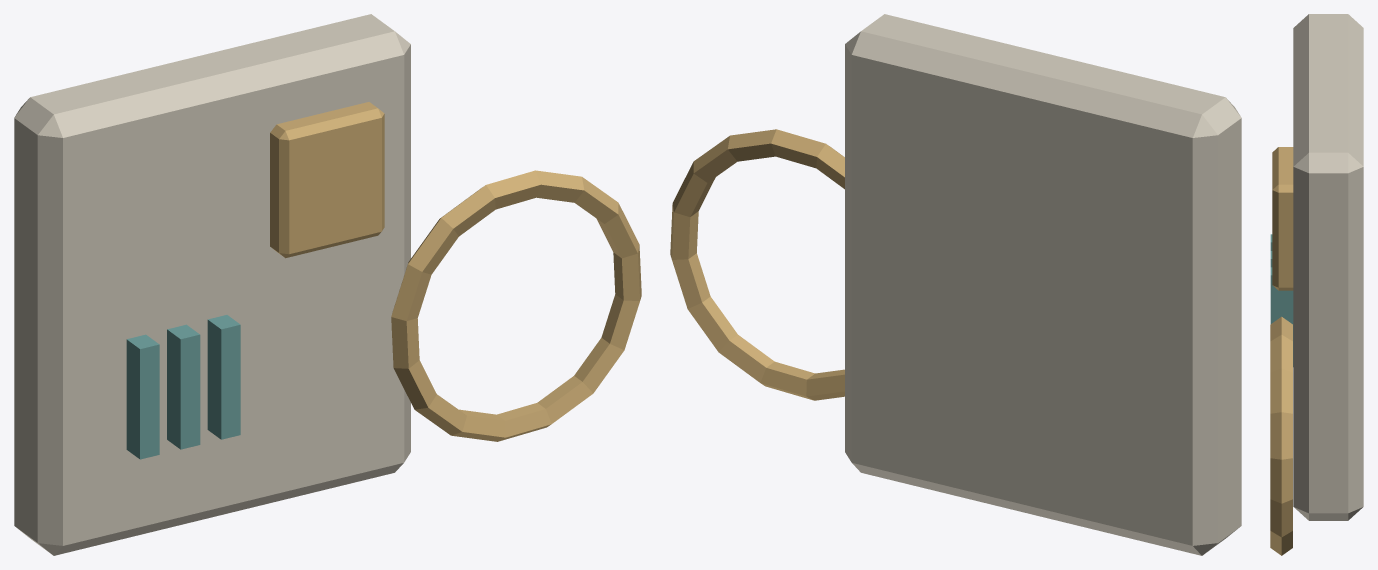
The model's file is blob_doctor.glb.
3 views of the same model, side by side, from view 1: azimuth 30°, elevation 25°; view 2: azimuth 150°, elevation 25°; view 3: azimuth 270°, elevation 25° (orthographic). The views are drawn at different scales.
Visible parts, largest first — view 1: blob_doctor; view 2: blob_doctor; view 3: blob_doctor.
Boxes of the visible parts, bbox=[...] form: blob_doctor: bbox=[14, 14, 641, 555]; blob_doctor: bbox=[670, 14, 1241, 555]; blob_doctor: bbox=[1270, 14, 1363, 555].
Bounding box in the file's own units: 0.3622 × 0.26 × 0.0598.
